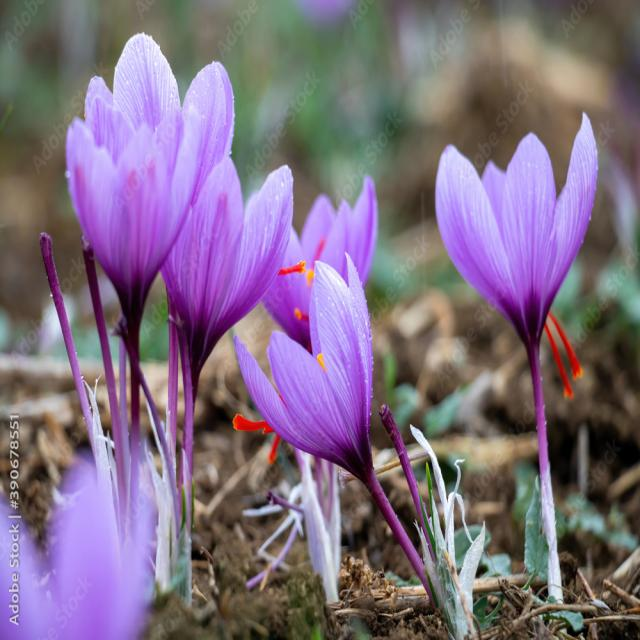saffron open: (435, 114, 598, 600), (236, 255, 429, 590), (161, 157, 292, 467), (66, 111, 198, 354), (265, 176, 378, 349)
